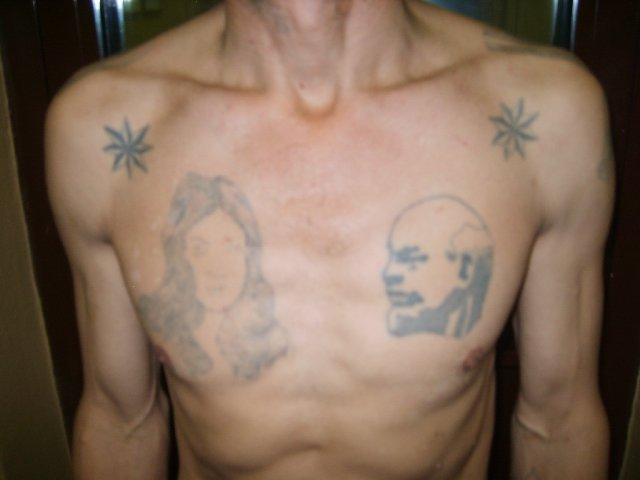tatu4_zvezda: (100, 117, 156, 183), (488, 97, 541, 165)
